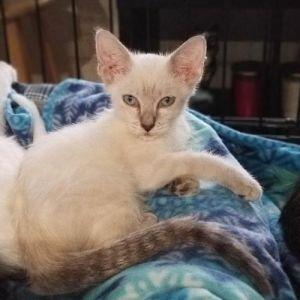siamese: (91, 25, 213, 147)
